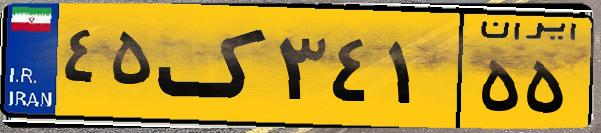1: (385, 28, 445, 110)
3: (270, 28, 330, 110)
4: (330, 28, 385, 110), (57, 26, 110, 100)
5: (475, 38, 525, 113), (525, 38, 570, 115), (110, 28, 158, 98)
ک: (158, 12, 270, 120)
